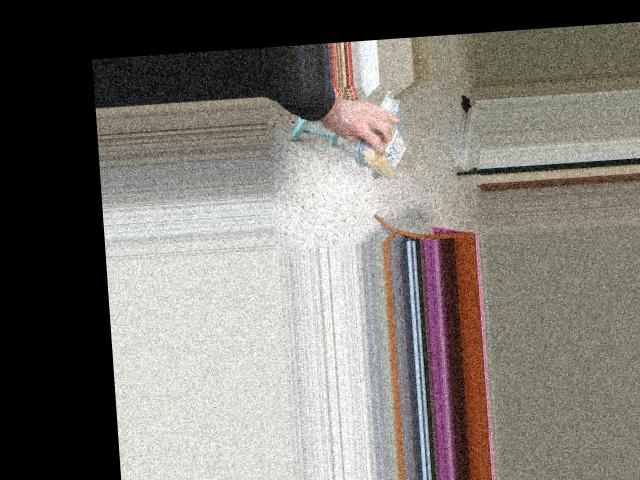cheese: (362, 96, 409, 187)
